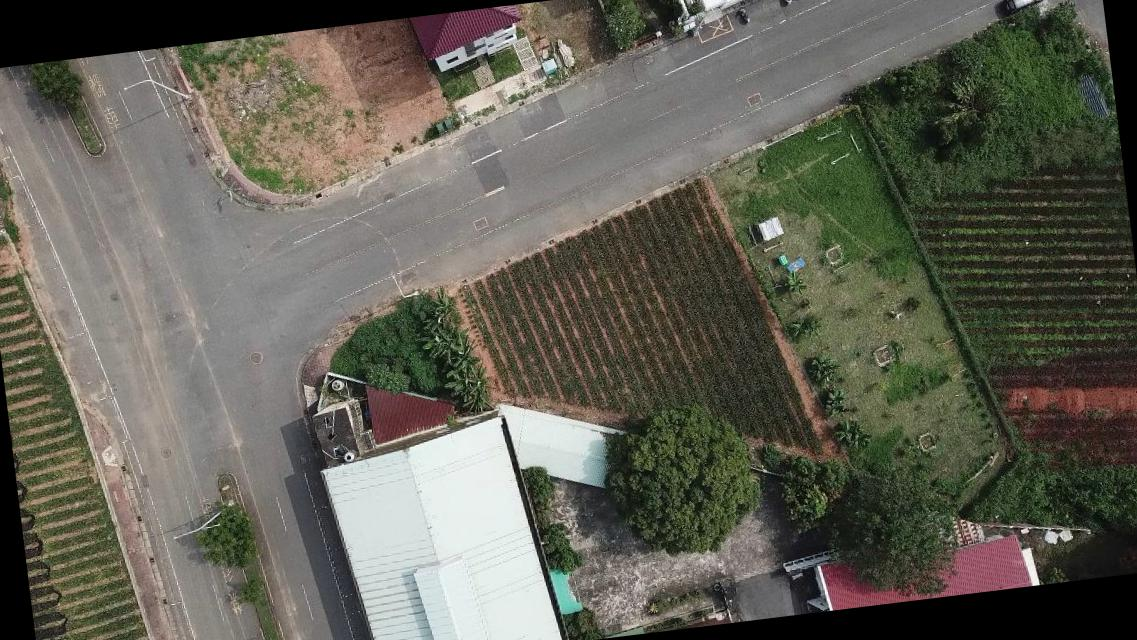vehicle: (997, 0, 1051, 18)
